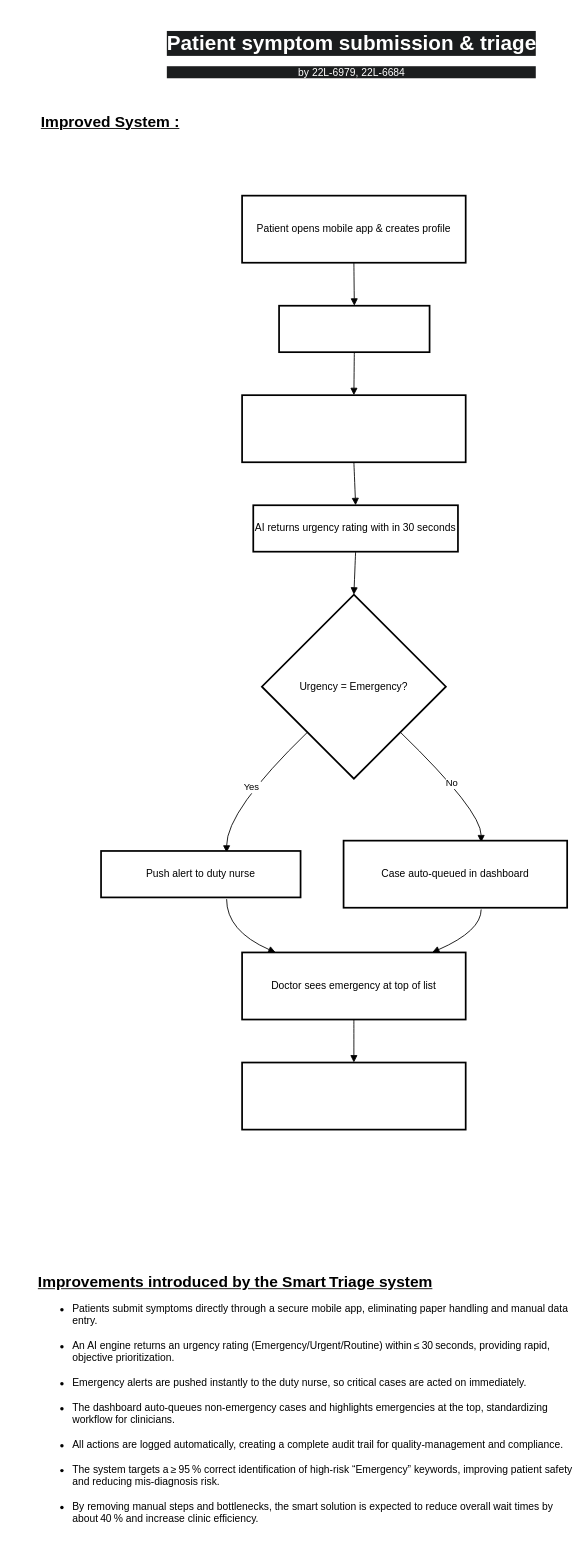
Some shapes in this 588 by 1551 pixel diagram are drawn without their labels. The shapes that lost their labels are listed below. From the top down, each one's box as (x1, y1, x2, y2) in pixels, then its label:
(278, 304, 430, 353): Enter symptoms (text\voice)
(241, 394, 466, 463): Data sent to AI triage engine
(241, 1061, 466, 1130): Audit log stored automatically
